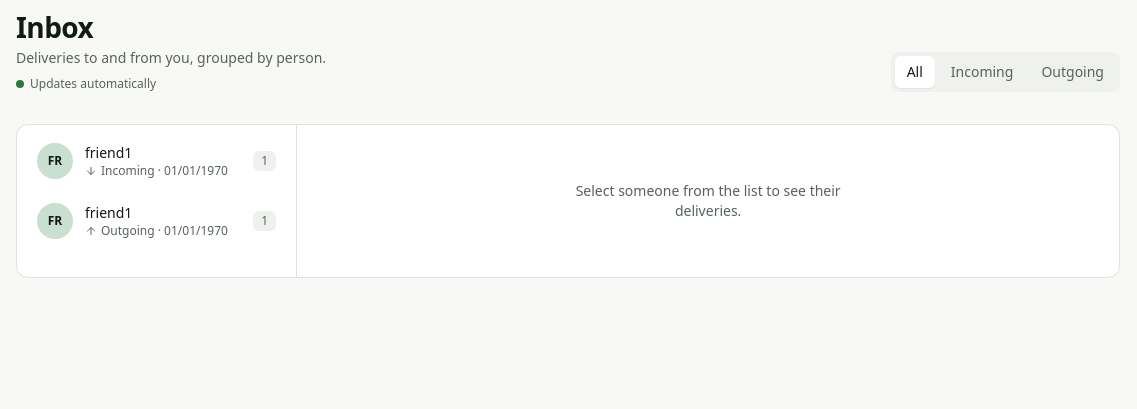
Test: InboxPage › keeps incoming and outgoing entries for the same person independently selectable even though they share a displayName
The width and height of the screenshot is (1137, 409).
Click the 1st text "friend1".
click(109, 152)  # box [85, 143, 132, 162]
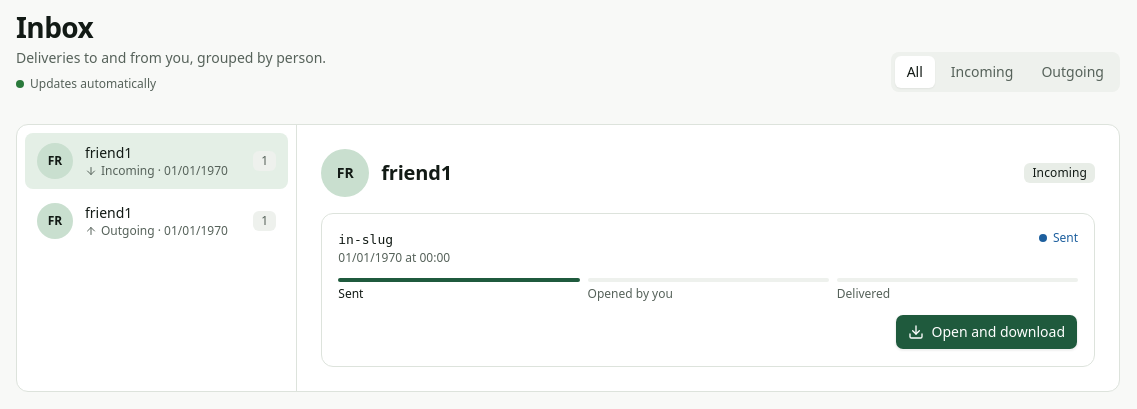
Check: the text "in-slug" is shown, box [338, 232, 393, 247]
Click the 2nd text "friend1".
click(109, 212)  # box [85, 203, 132, 222]
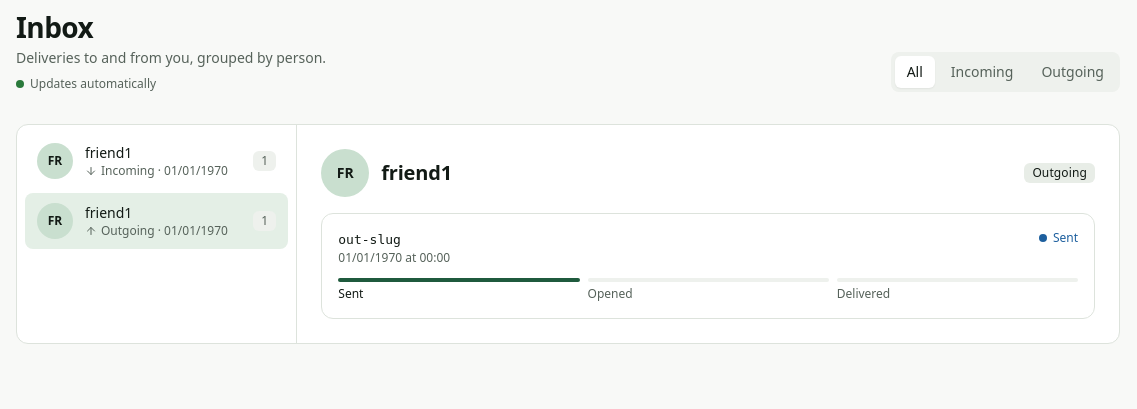
Check: the text "out-slug" is shown, box [338, 232, 401, 247]
Check: the text "in-slug" is gone
